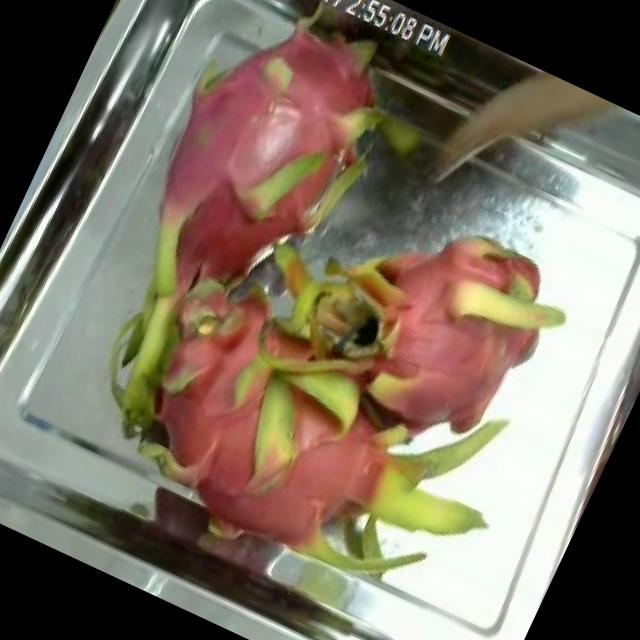Fruit: (414, 208, 564, 344)
